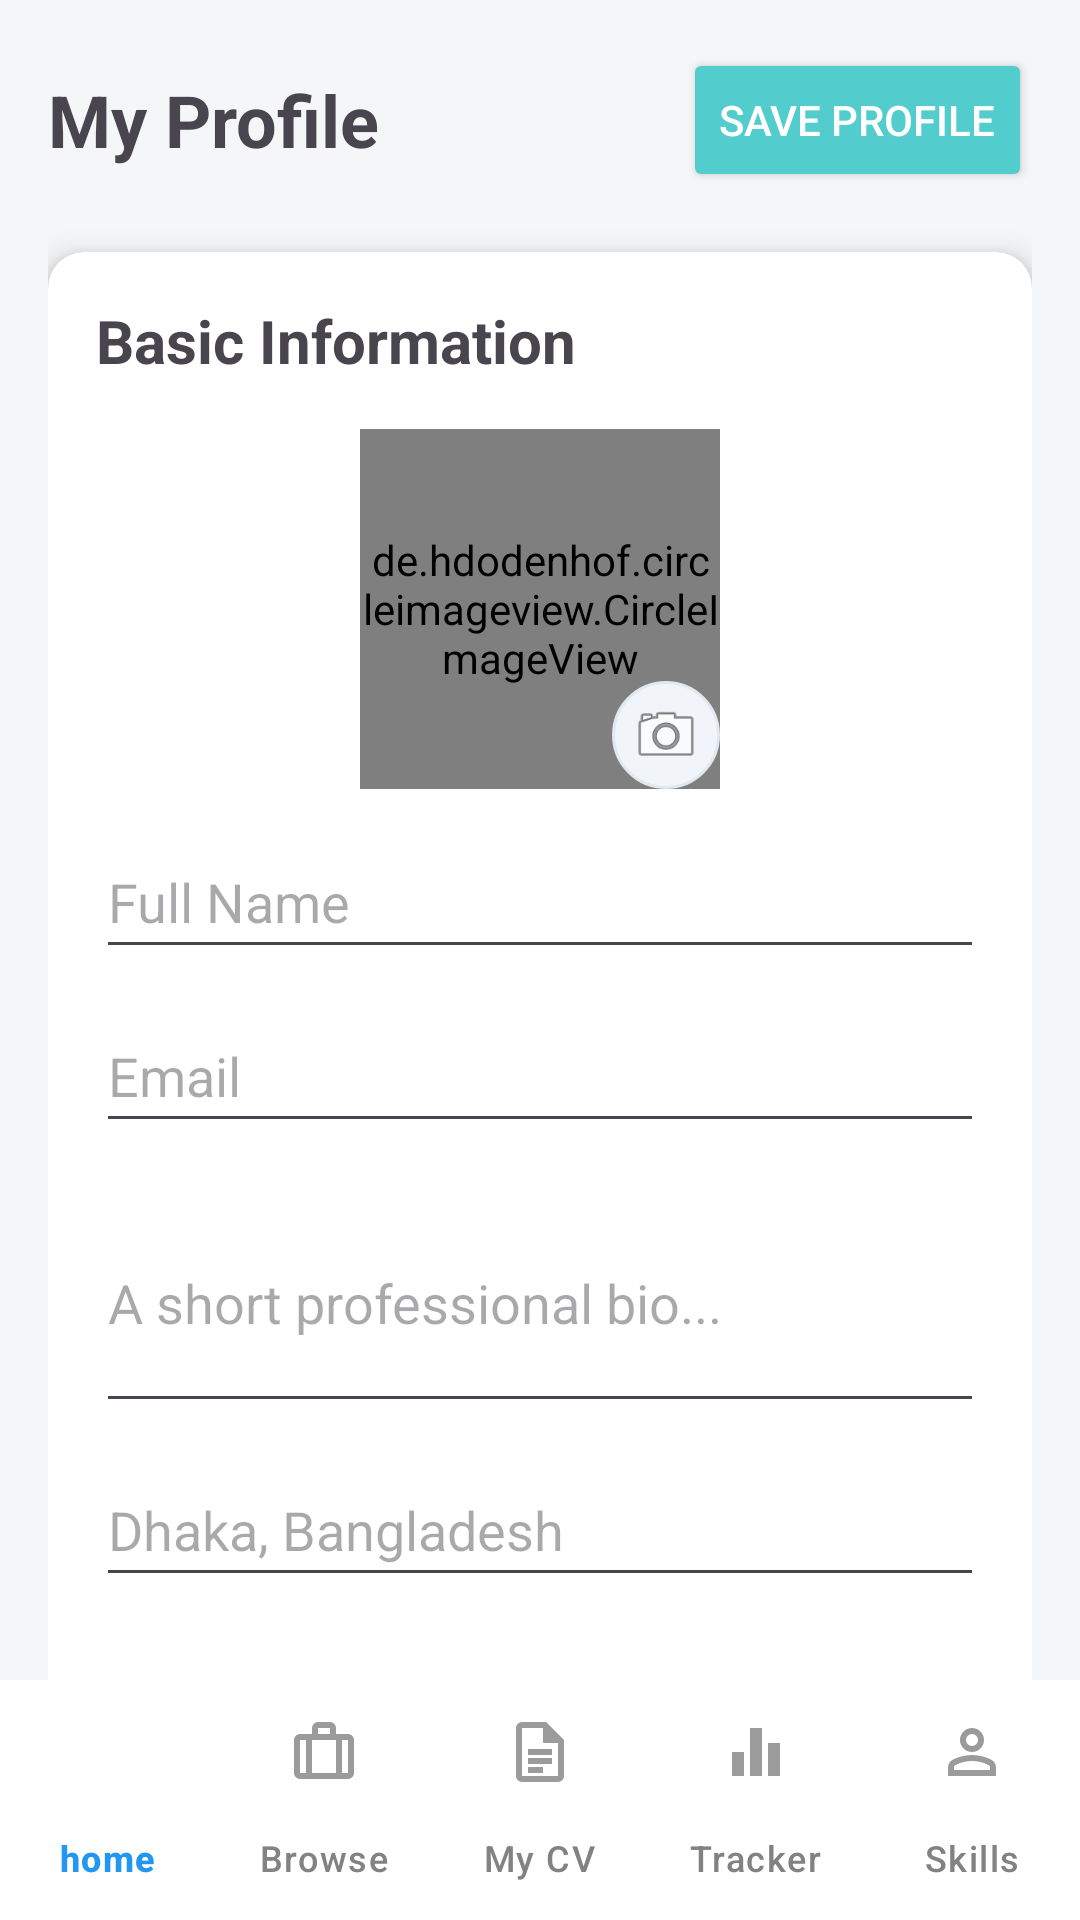

Named icons in this screenshot (1080 x 1920) and their centers, (x,y):
camera: (666,735)
